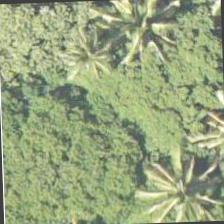Kelapa_Sawit: (31, 0, 124, 94), (85, 0, 179, 78), (124, 148, 216, 222), (175, 99, 223, 193)
